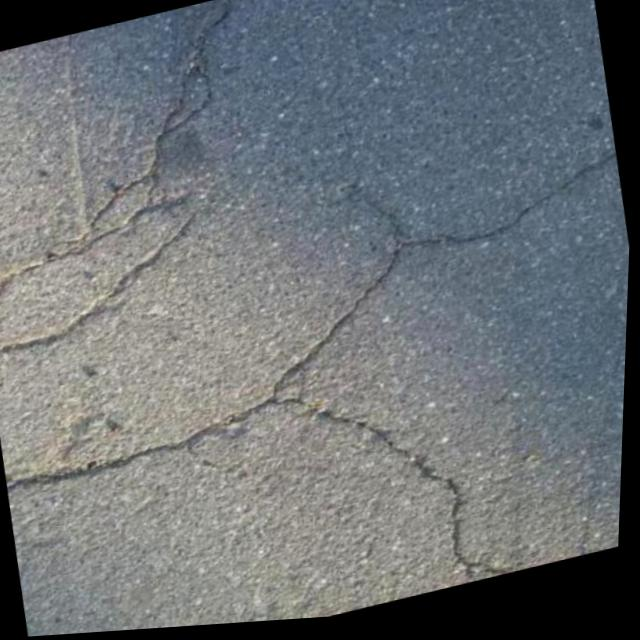Crack: (0, 216, 213, 361), (281, 364, 463, 531), (5, 391, 281, 500), (250, 248, 422, 400), (396, 158, 626, 266), (440, 487, 507, 586), (184, 0, 242, 70)
